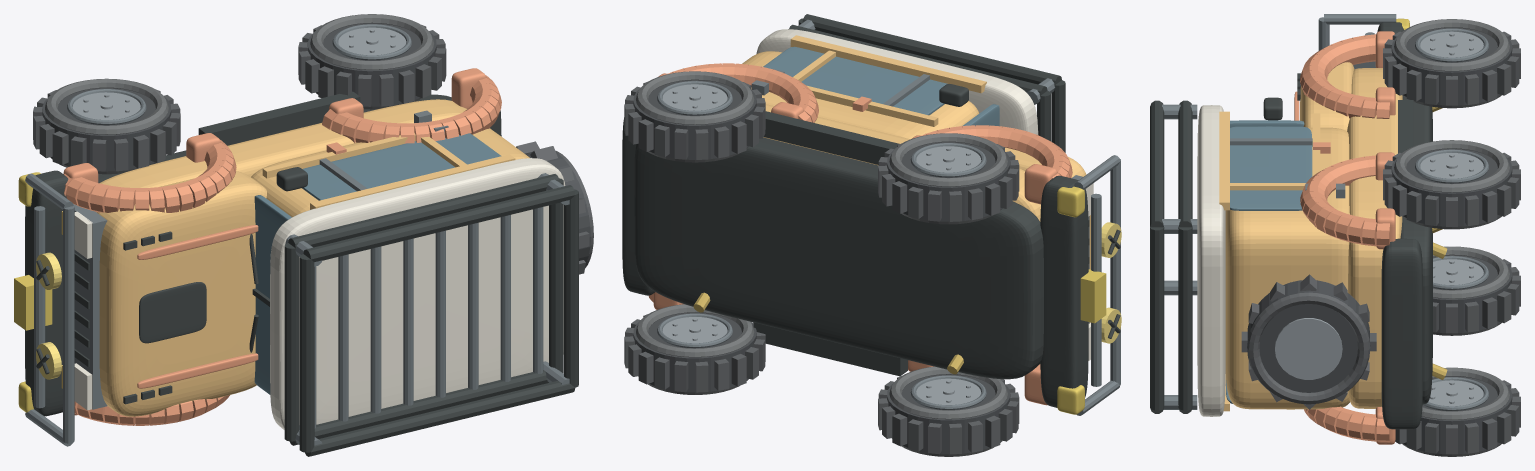
Rendered from expedition_jeep_game.glb.
The picture shows the model from 3 angles, left to right: view 1: azimuth 30°, elevation 25°; view 2: azimuth 150°, elevation 25°; view 3: azimuth 270°, elevation 25°; orthographic projection. The views are drawn at different scales.
Visible parts, largest first — view 1: body__black, body__orange, body__beige, body__steel_dark, body__orange_dark, body__glass, front_L__tread, rear_L__tread, front_L__rubber_soft, rear_L__rubber_soft, front_L__tire, rear_L__tire (+9 smaller); view 2: body__black, body__orange, body__orange_dark, body__glass, body__steel_dark, body__beige, rear_L__tread, front_L__tread, front_R__tread, rear_R__tread, rear_L__rubber_soft, front_L__rubber_soft (+16 smaller); view 3: body__orange, body__black, body__orange_dark, body__beige, body__glass, spare_wheel__tread, spare_wheel__tire, front_L__tread, rear_L__tread, body__steel_dark, spare_wheel__steel, rear_R__tread (+18 smaller).
Part boxes in pixels (box(x1,y1,x2,y2)): body__black: box(25, 91, 578, 456); body__orange: box(96, 99, 529, 416); body__beige: box(270, 158, 565, 429); body__steel_dark: box(25, 110, 569, 446); body__orange_dark: box(63, 68, 501, 425); body__glass: box(254, 133, 501, 394); front_L__tread: box(33, 89, 180, 171); rear_L__tread: box(298, 25, 446, 106); front_L__rubber_soft: box(45, 78, 168, 174); rear_L__rubber_soft: box(310, 14, 433, 109); front_L__tire: box(42, 88, 171, 171); rear_L__tire: box(307, 23, 436, 106); body__black: box(622, 14, 1120, 407); body__orange: box(742, 35, 1090, 364); body__orange_dark: box(648, 63, 1072, 405); body__glass: box(763, 46, 999, 126); body__steel_dark: box(751, 19, 1120, 415); body__beige: box(756, 29, 1038, 134); rear_L__tread: box(624, 81, 765, 159); front_L__tread: box(878, 143, 1019, 221); front_R__tread: box(878, 376, 1019, 454); rear_R__tread: box(624, 314, 765, 392); rear_L__rubber_soft: box(636, 71, 754, 162); front_L__rubber_soft: box(889, 133, 1007, 224); body__orange: box(1219, 62, 1402, 411); body__black: box(1150, 22, 1432, 429); body__orange_dark: box(1294, 31, 1395, 444); body__beige: box(1197, 105, 1225, 416); body__glass: box(1226, 120, 1312, 403); spare_wheel__tread: box(1241, 274, 1376, 409); spare_wheel__tire: box(1247, 280, 1370, 396); front_L__tread: box(1383, 31, 1520, 105); rear_L__tread: box(1383, 152, 1520, 226); body__steel_dark: box(1162, 14, 1396, 409); spare_wheel__steel: box(1275, 318, 1342, 379); rear_R__tread: box(1395, 380, 1520, 454).
Size of the model in its own units: 4.59 by 2.54 by 3.13.
